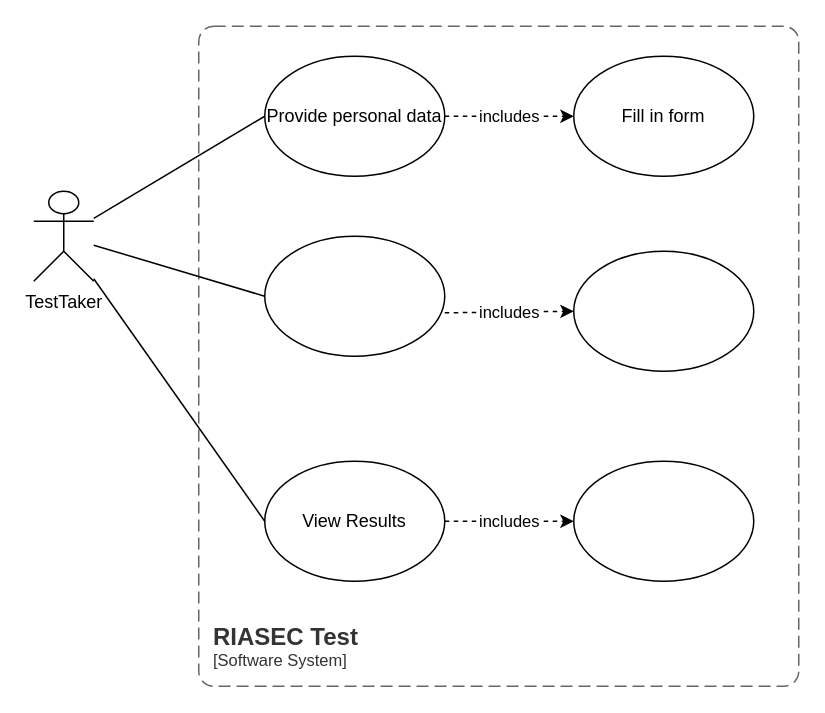
This 825x713 diagram has some shape labels left out. Here are the shapes that lost their labels. From the top down, the box of each, then its label:
(263, 235, 445, 356): Take Personality Test
(572, 250, 754, 371): Answer Questions
(572, 460, 754, 581): Read about possible careers
